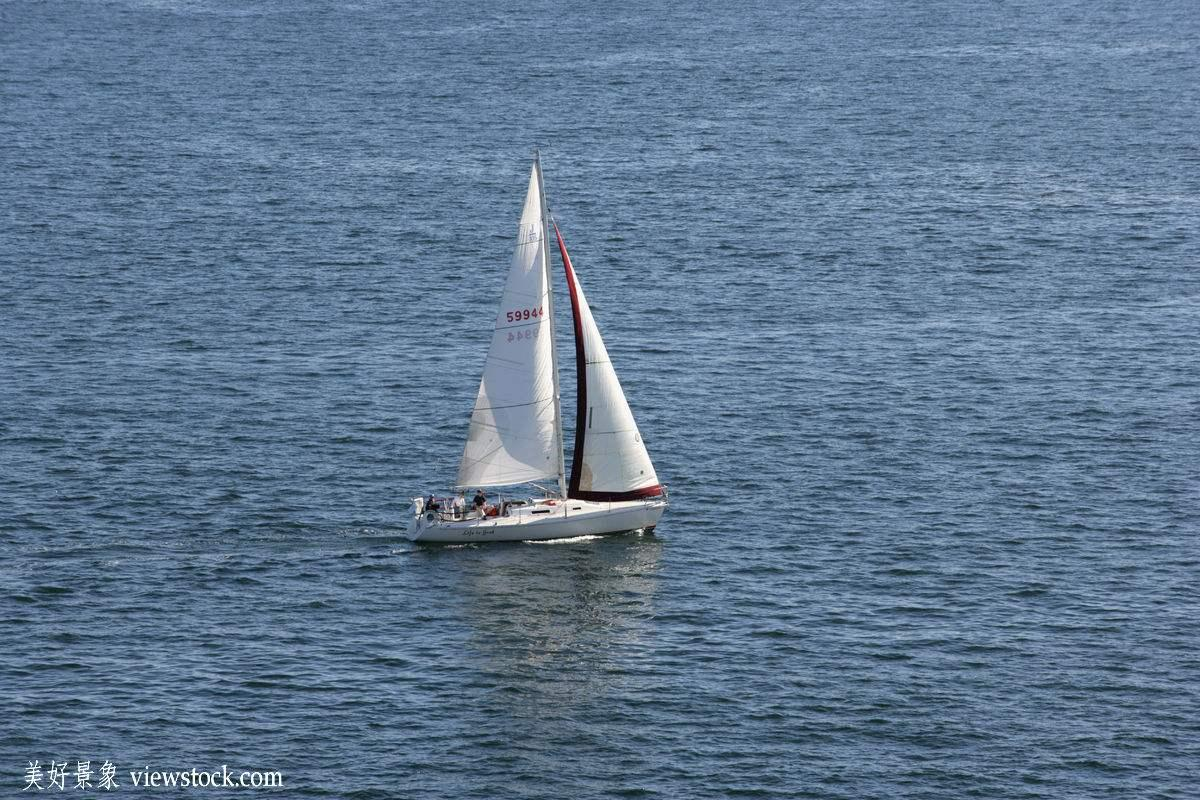fanchuan: (406, 145, 666, 548)
